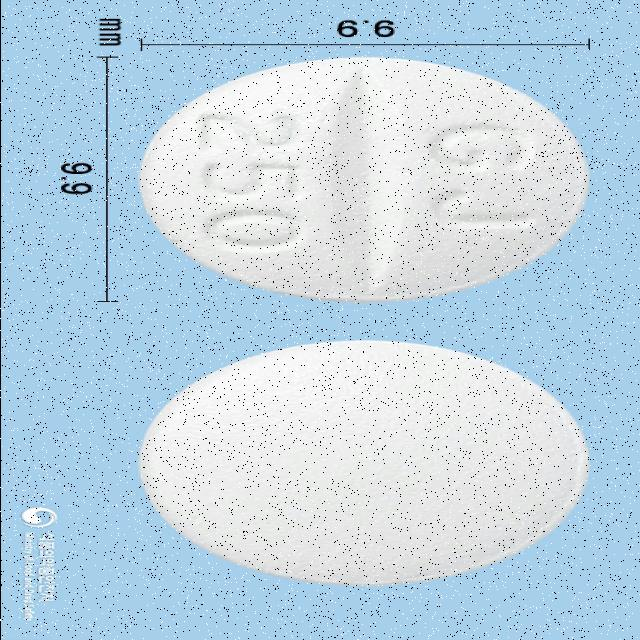Newloxacin Tab: (138, 56, 592, 302)
